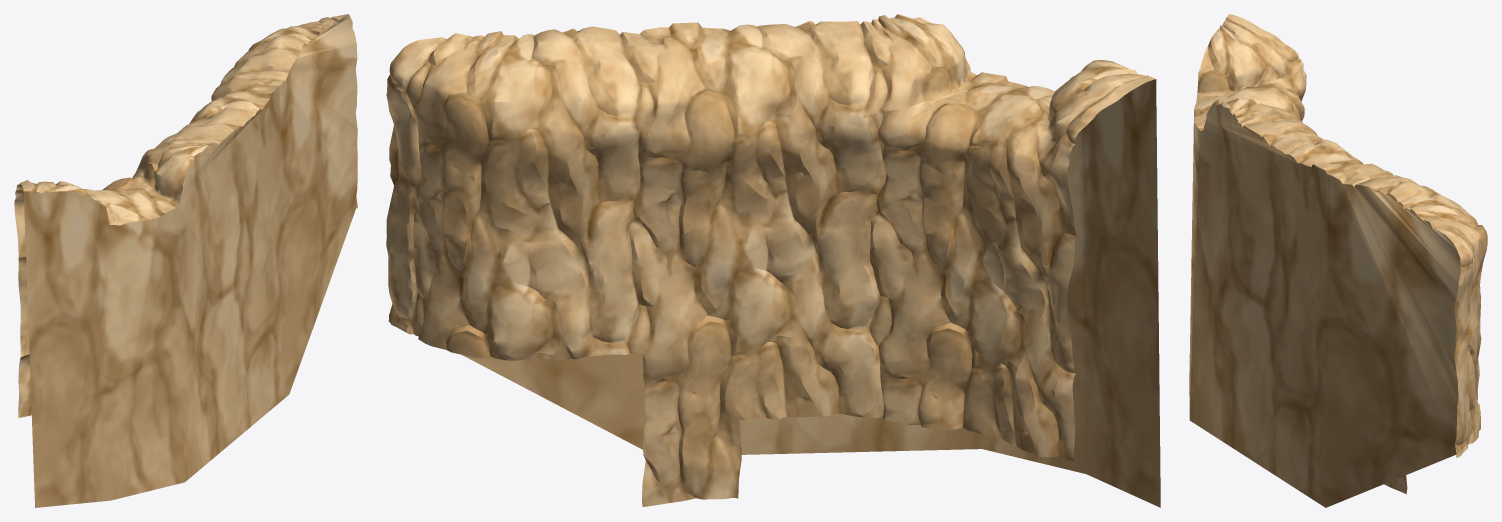
The model's file is SM_ENV_KNFRST_Wall_Ab.FBX.
3 views of the same model, side by side, from view 1: azimuth 30°, elevation 25°; view 2: azimuth 150°, elevation 25°; view 3: azimuth 270°, elevation 25° (orthographic). The views are drawn at different scales.
Parts seen in each view (by area): view 1: SM_ENV_KNFRST_Wall_Ab; view 2: SM_ENV_KNFRST_Wall_Ab; view 3: SM_ENV_KNFRST_Wall_Ab.
Part boxes in pixels (left/top/right/bottom): SM_ENV_KNFRST_Wall_Ab: left=14, top=14, right=357, bottom=507; SM_ENV_KNFRST_Wall_Ab: left=386, top=14, right=1160, bottom=507; SM_ENV_KNFRST_Wall_Ab: left=1189, top=14, right=1487, bottom=507.
Size of the model in its own units: 6288 by 4365 by 3456.
